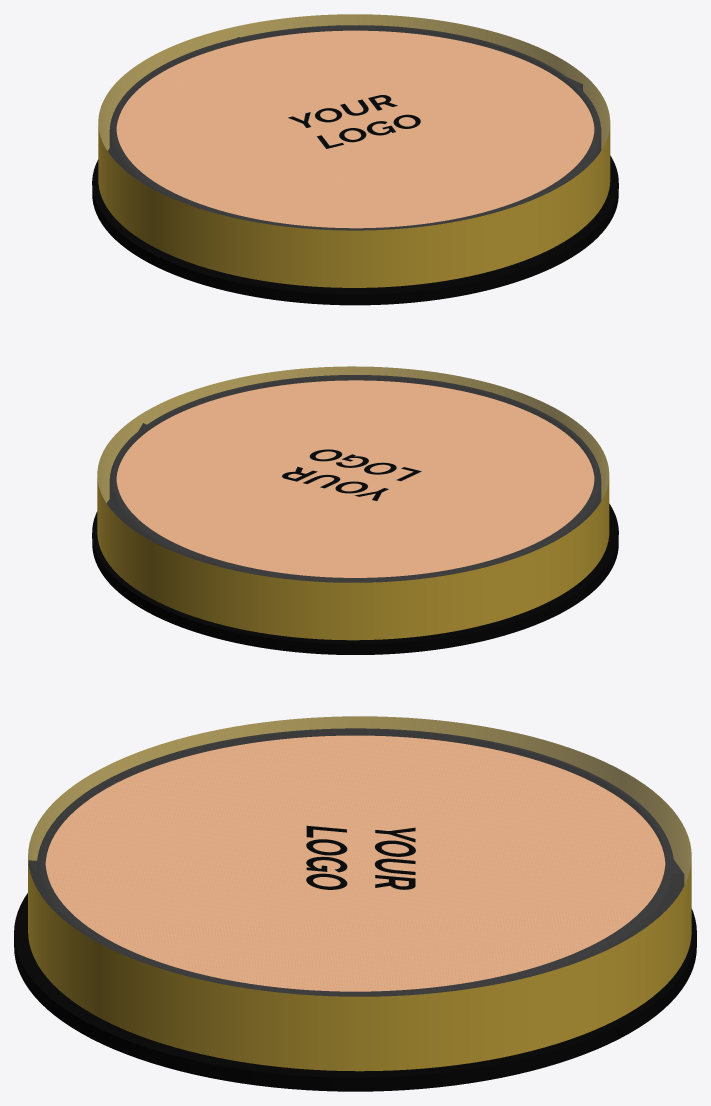
Rendered from Two way cake.gltf.
The picture shows the model from 3 angles, top to bottom: view 1: azimuth 30°, elevation 25°; view 2: azimuth 150°, elevation 25°; view 3: azimuth 270°, elevation 25°; orthographic projection. The views are drawn at different scales.
Parts seen in each view (by area): view 1: Cylinder.014, Cylinder.015, Cylinder.001, Cylinder.013, CREAM PUFF-01.004; view 2: Cylinder.014, Cylinder.015, Cylinder.001, Cylinder.013, CREAM PUFF-01.004; view 3: Cylinder.014, Cylinder.015, Cylinder.001, Cylinder.013, CREAM PUFF-01.004.
Boxes of the visible parts, x1,y1,x2,y2 form: Cylinder.014: (98,14,609,230); Cylinder.015: (116,30,594,228); Cylinder.001: (98,14,610,287); Cylinder.013: (92,25,618,305); CREAM PUFF-01.004: (287,94,420,148); Cylinder.014: (97,366,608,582); Cylinder.015: (116,380,594,577); Cylinder.001: (97,366,609,640); Cylinder.013: (92,375,618,654); CREAM PUFF-01.004: (282,449,421,501); Cylinder.014: (28,716,691,996); Cylinder.015: (45,735,665,991); Cylinder.001: (28,716,691,1071); Cylinder.013: (14,728,696,1091); CREAM PUFF-01.004: (306,825,415,889).
Bounding box in the file's own units: 2.06 × 0.3036 × 2.06.
Materials: 6 (4 with a texture image).
